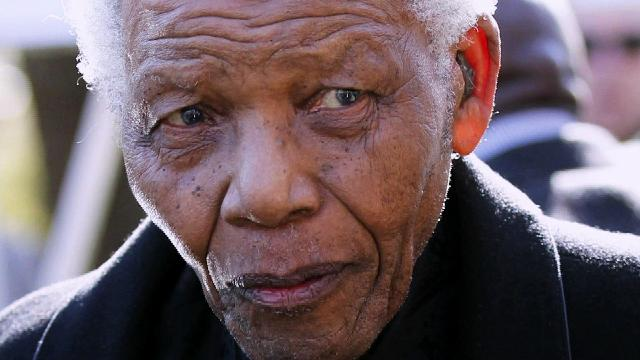chin: (348, 304, 366, 334)
crows_feet: (370, 89, 396, 115), (134, 129, 158, 155)
forehead: (263, 9, 319, 31), (146, 30, 214, 48), (191, 6, 245, 23), (329, 5, 377, 23), (310, 23, 350, 41), (268, 40, 302, 60)
gummy_smile: (323, 183, 375, 233), (200, 199, 224, 260)
sad_smile: (364, 245, 390, 281), (202, 260, 224, 296)
